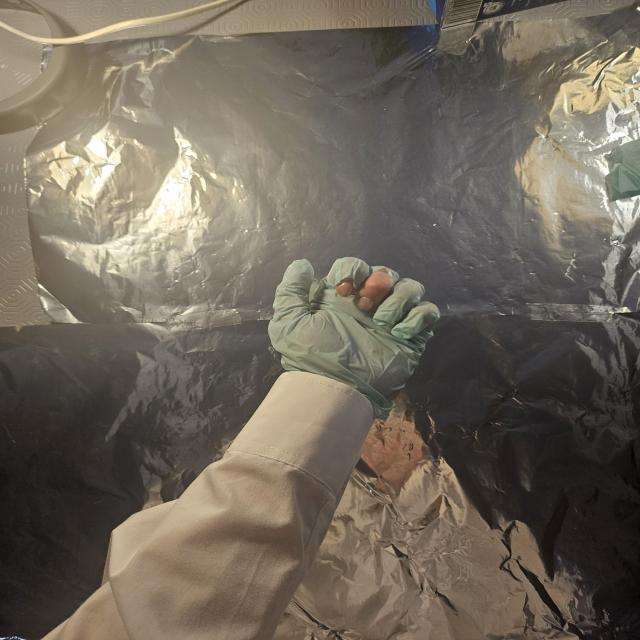gloves_damaged: (268, 252, 442, 421)
